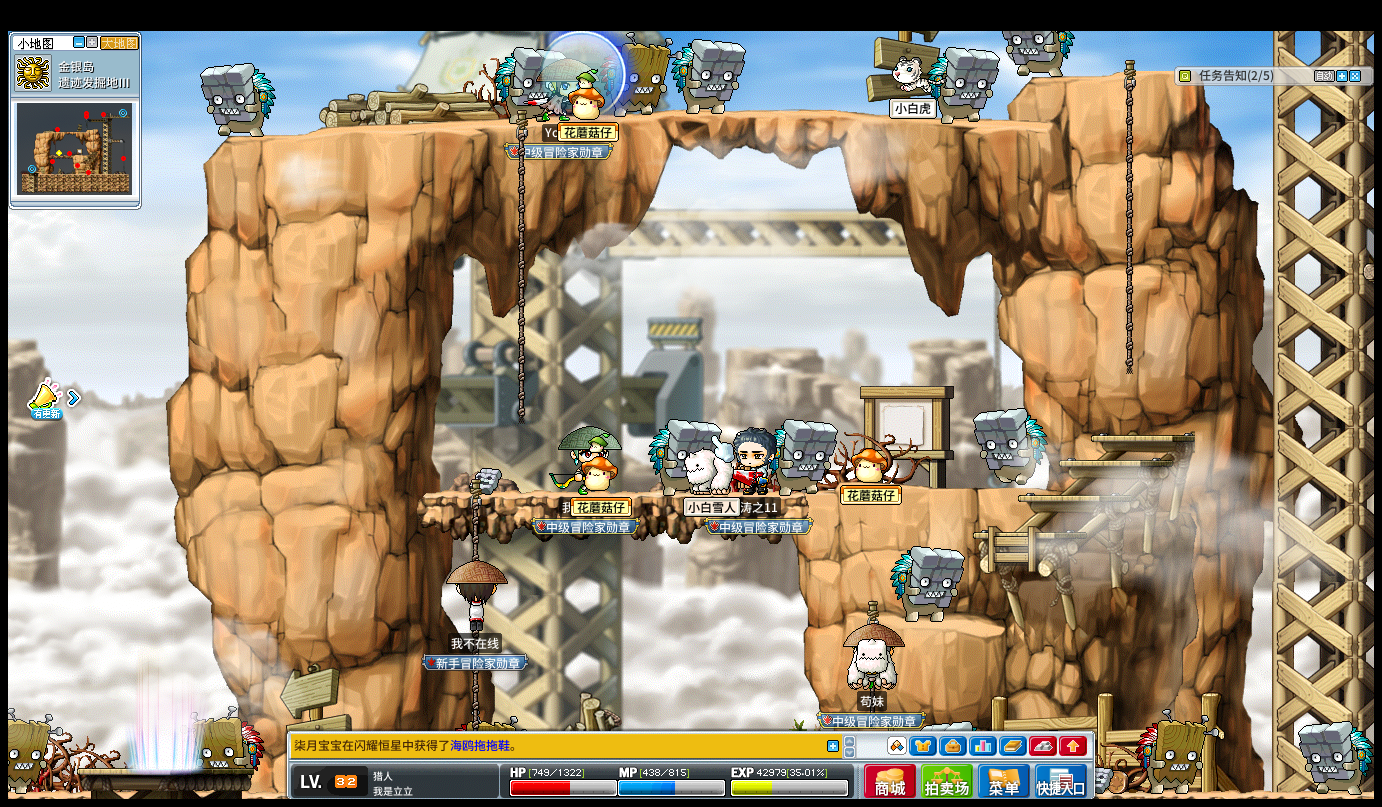floor: (230, 107, 1080, 141), (421, 490, 800, 501), (890, 616, 1006, 637), (862, 484, 1052, 494), (1031, 69, 1177, 82), (1032, 67, 1175, 80), (878, 485, 1054, 495), (1087, 429, 1195, 443), (970, 530, 1085, 539), (1088, 434, 1198, 443), (1015, 493, 1131, 501), (1055, 458, 1167, 466)
monster: (1138, 712, 1219, 792), (889, 545, 964, 624), (672, 36, 747, 115), (199, 61, 275, 138), (972, 407, 1046, 485), (928, 45, 998, 122), (191, 712, 262, 787), (1299, 722, 1371, 793), (771, 419, 836, 495), (2, 713, 62, 793), (493, 45, 546, 122), (648, 419, 700, 494)
rope: (1122, 55, 1136, 379), (514, 110, 527, 425), (467, 482, 481, 561), (468, 670, 478, 727)
